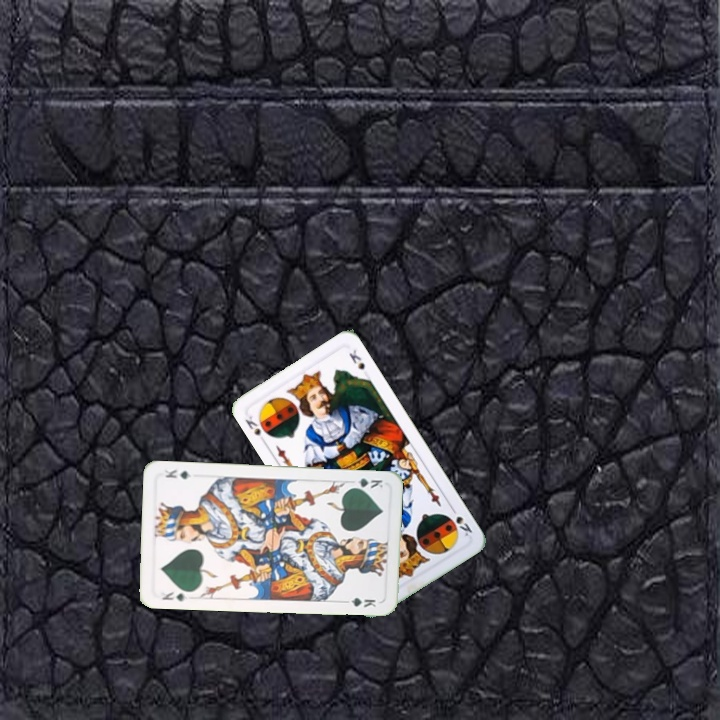GK: (346, 472, 385, 491), (158, 588, 190, 604)
SK: (447, 503, 475, 539), (241, 411, 263, 438)
